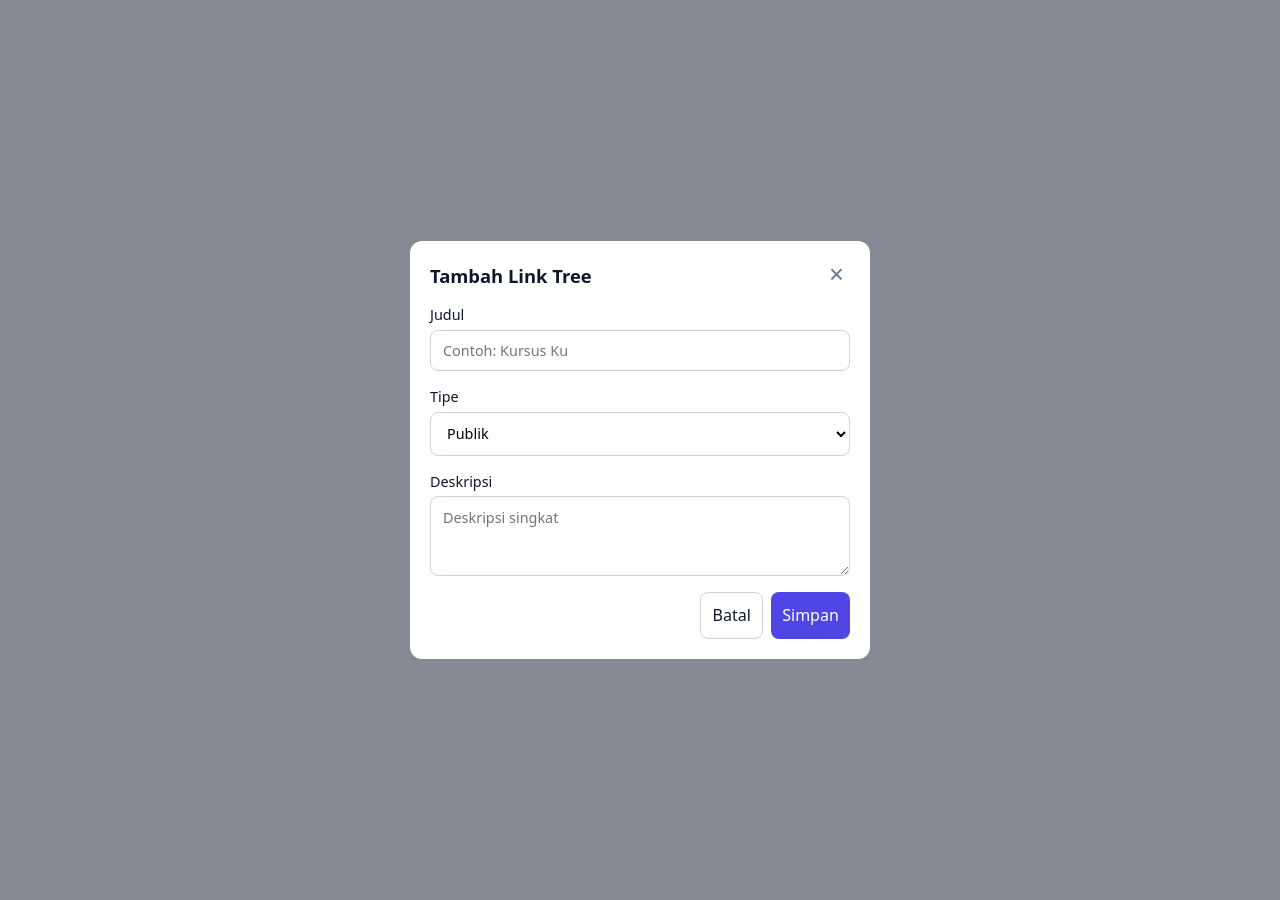
Scenario: AddModal › menampilkan galat dan tetap terbuka
The image size is (1280, 900).
In the field labelled "Judul": [640, 350] box [430, 330, 850, 371], type "Kursus"
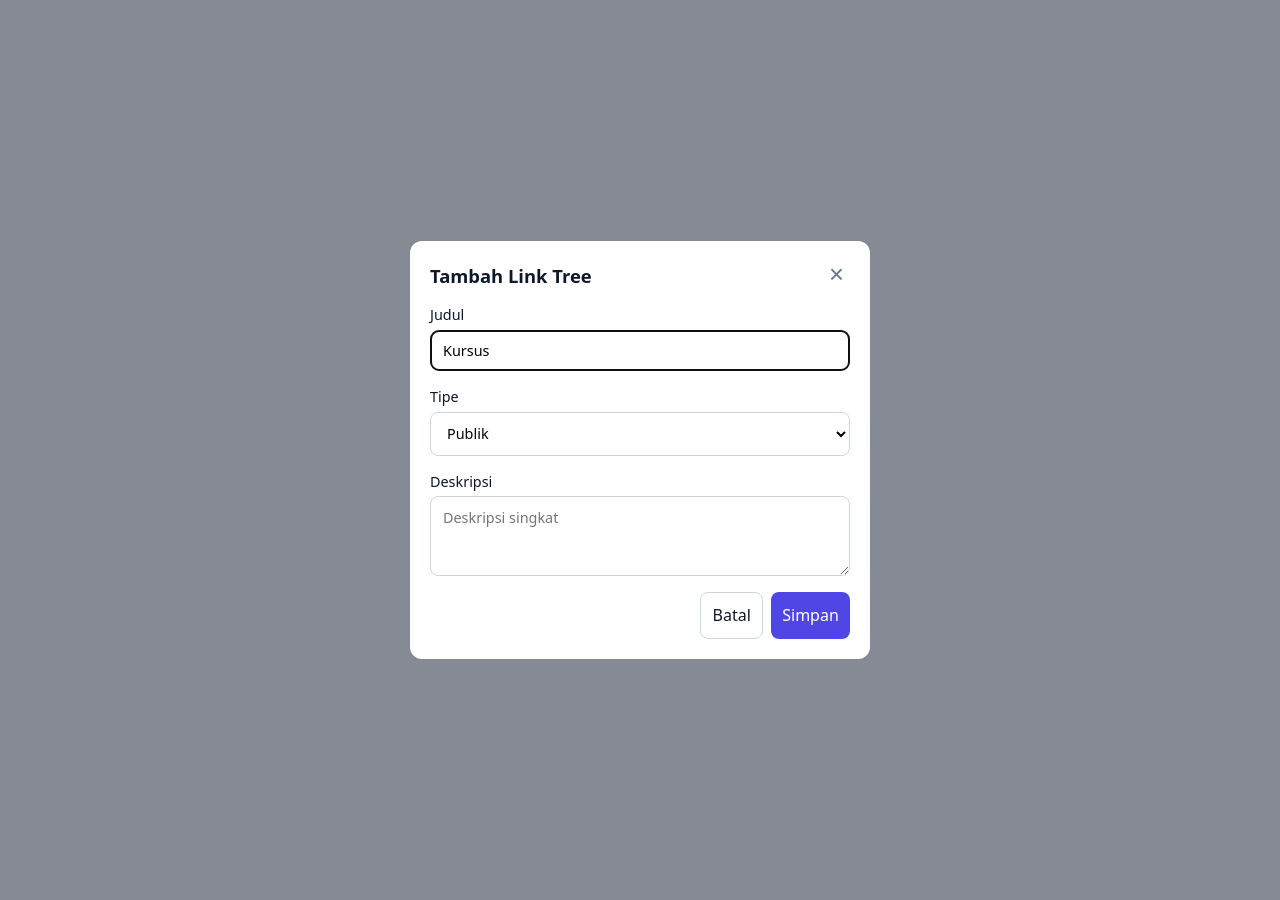
Click the button "Simpan": [810, 615] box [771, 592, 850, 639]
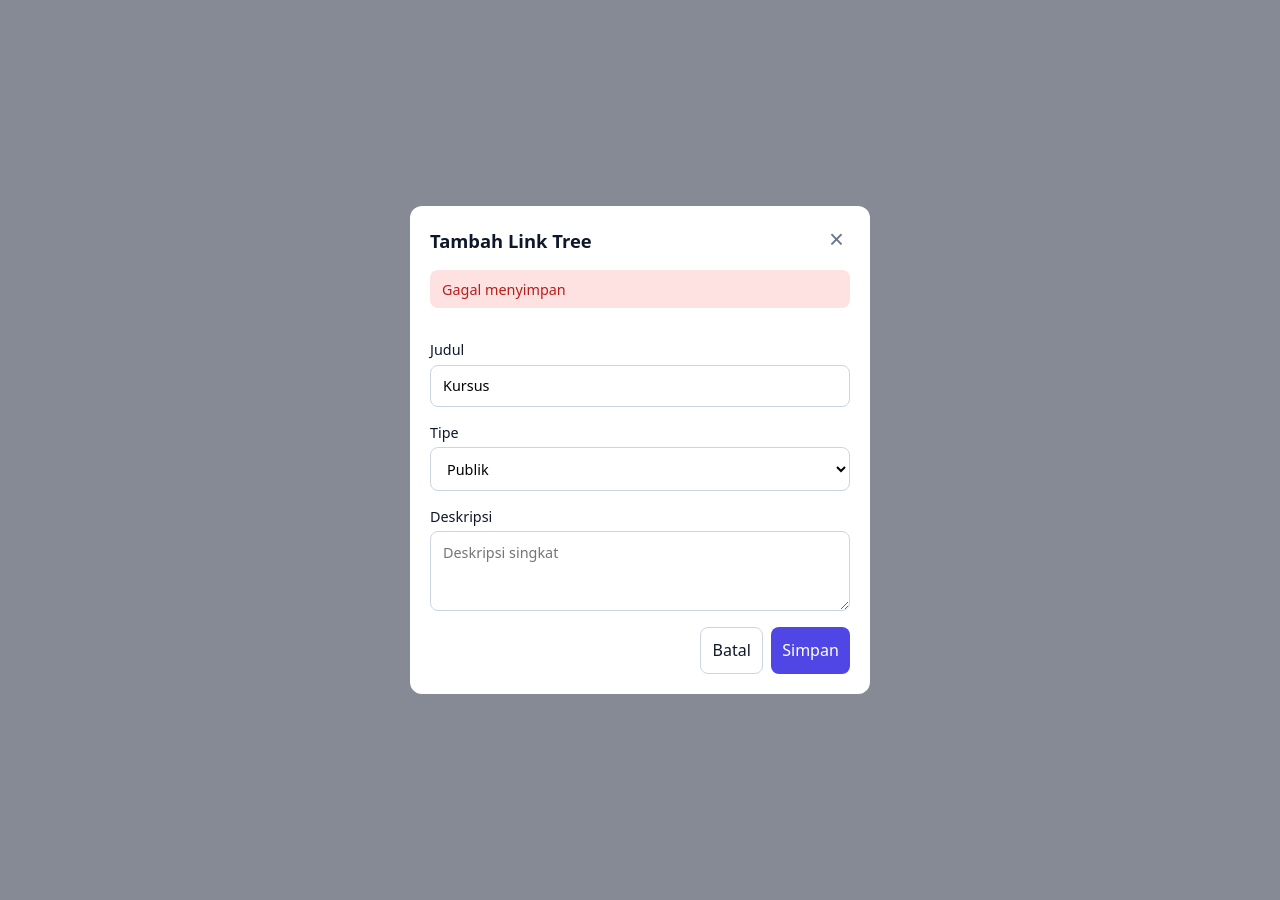
Now the text "Gagal menyimpan" is shown, box [430, 270, 850, 308]
